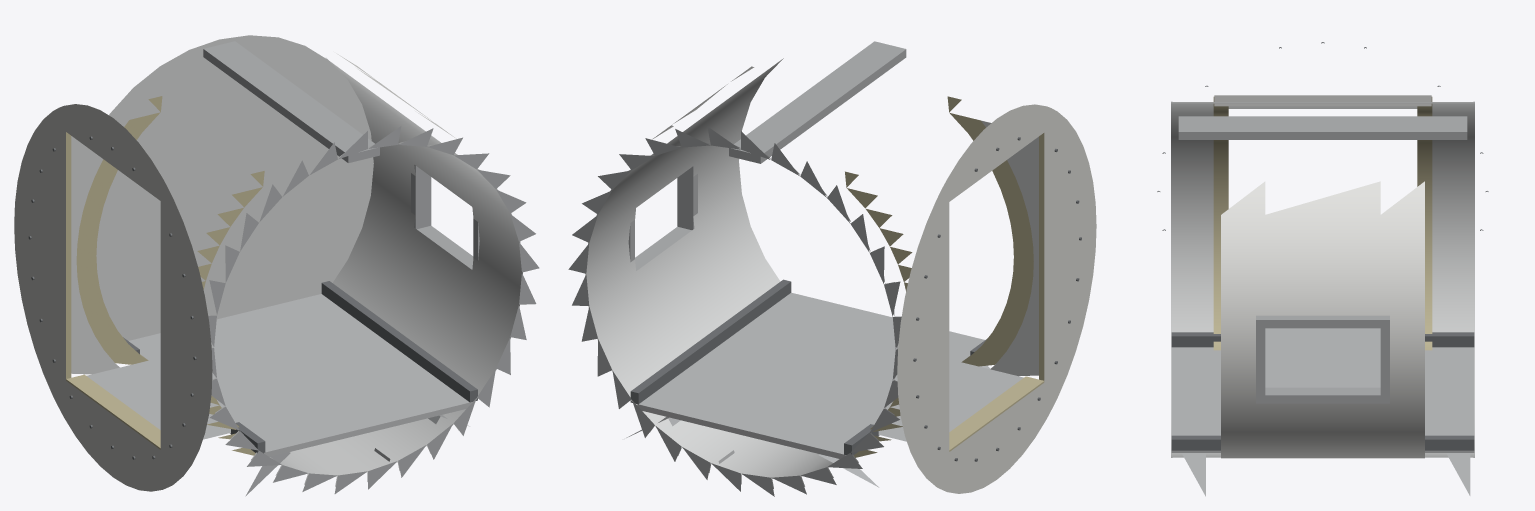
Rendered from habWindowJLb_steel_meshin.glb.
3 views of the same model, side by side, from view 1: azimuth 30°, elevation 25°; view 2: azimuth 150°, elevation 25°; view 3: azimuth 270°, elevation 25° (orthographic).
Parts seen in each view (by area): view 1: habWindowJLb_steel_meshin; view 2: habWindowJLb_steel_meshin; view 3: habWindowJLb_steel_meshin.
Part boxes in pixels (bbox=[...]): habWindowJLb_steel_meshin: bbox=[14, 35, 539, 496]; habWindowJLb_steel_meshin: bbox=[568, 41, 1096, 496]; habWindowJLb_steel_meshin: bbox=[1157, 42, 1488, 496].
Size of the model in its own units: 2.66 by 2.6 by 2.6.
